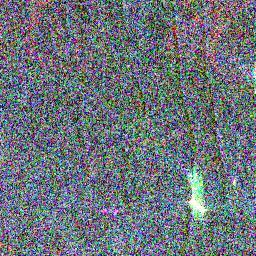Ship: (190, 191, 206, 219), (229, 176, 238, 188)
